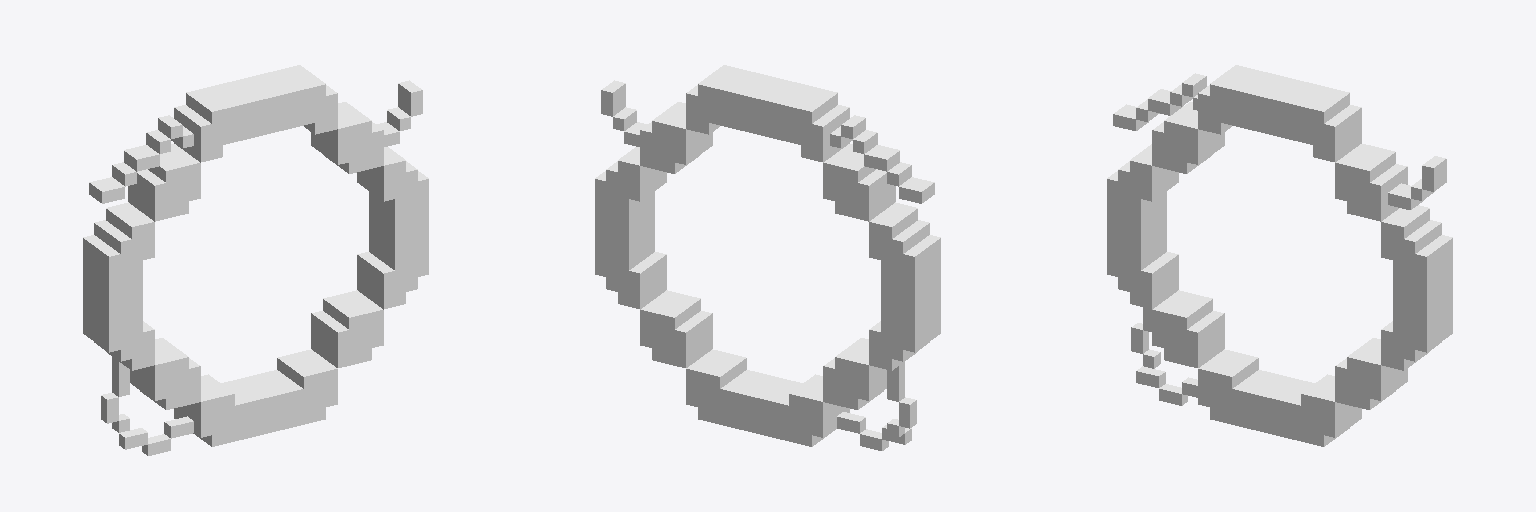
Rendered from PortalNothing.obj.
3 views of the same model, side by side, from view 1: azimuth 30°, elevation 25°; view 2: azimuth 150°, elevation 25°; view 3: azimuth 330°, elevation 25° (orthographic).
Parts seen in each view (by area): view 1: object 1; view 2: object 1; view 3: object 1.
Part boxes in pixels (left/top/right/bottom): object 1: left=83, top=65, right=428, bottom=455; object 1: left=595, top=65, right=940, bottom=450; object 1: left=1107, top=65, right=1452, bottom=446.
Size of the model in its own units: 2.8 by 2.8 by 0.4.